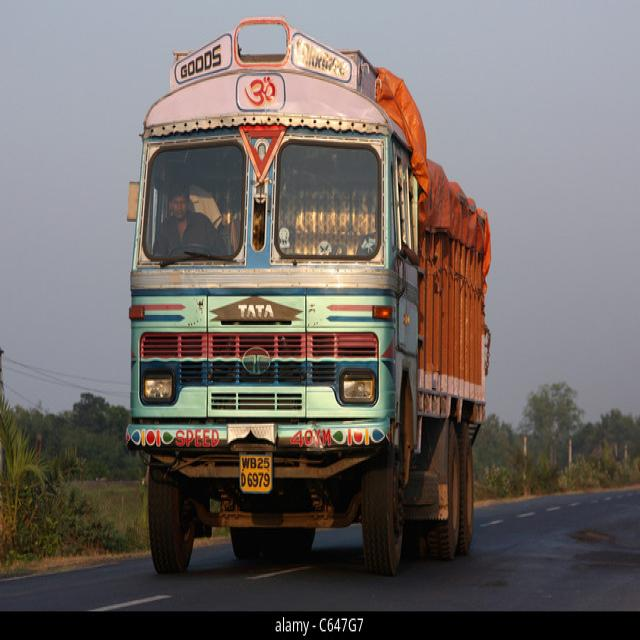normal_truck: (125, 16, 487, 578)
